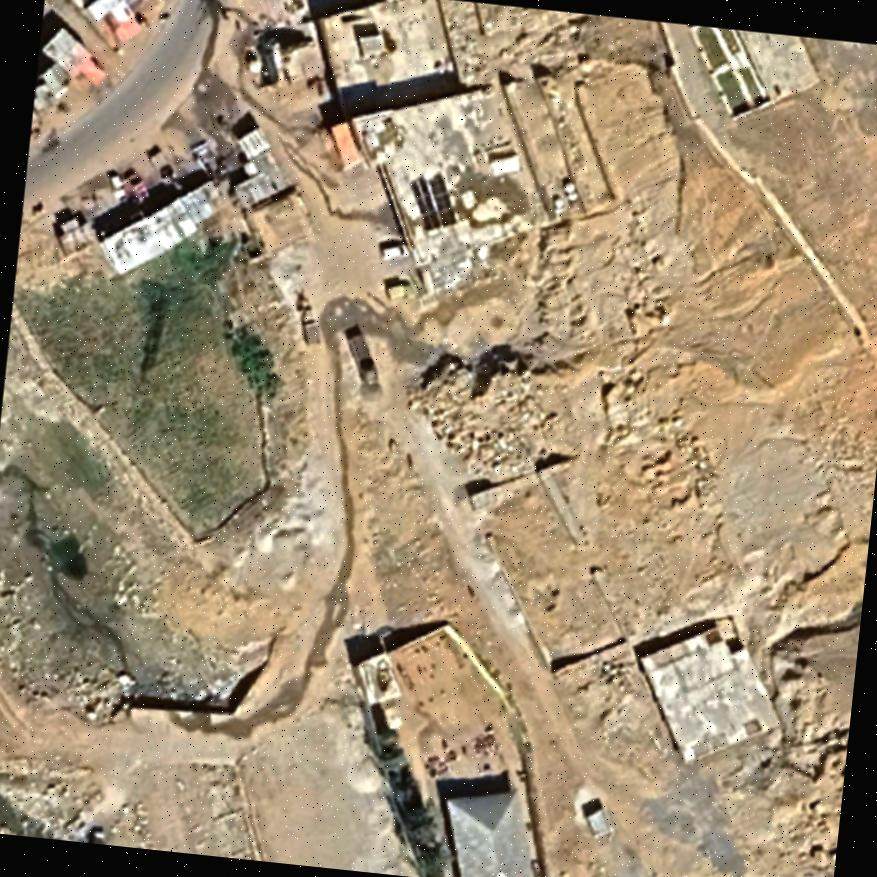Solarpanel: (401, 164, 467, 239)
